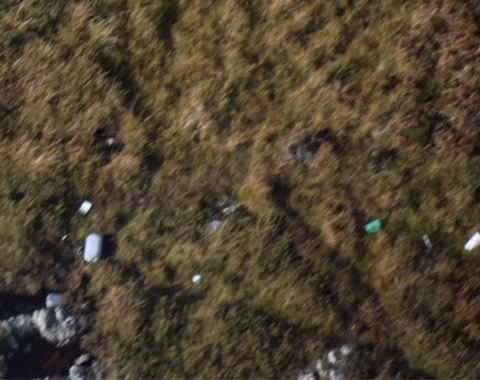scattered_barrel: (53, 130, 479, 289)
